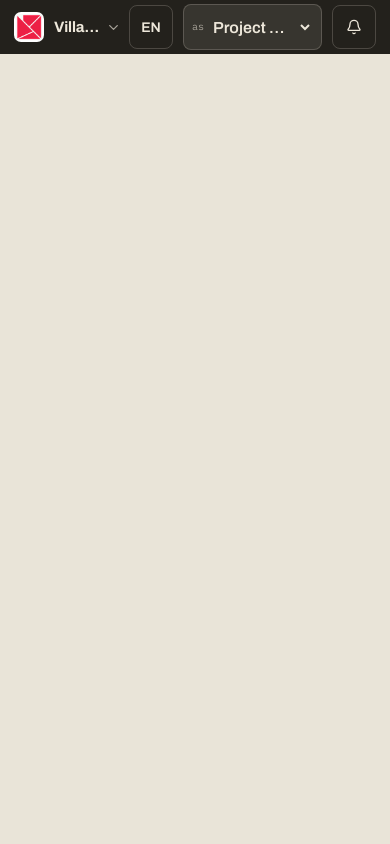
Test: switching from the top bar goes through the existing store path › the sheet does not replace Portfolio — it offers the cross-project overview as a destination
The image size is (390, 844).
Step 1. Click the button with test id "mobile-project-switcher" → {"x": 92, "y": 27}, box [54,5,129,49]
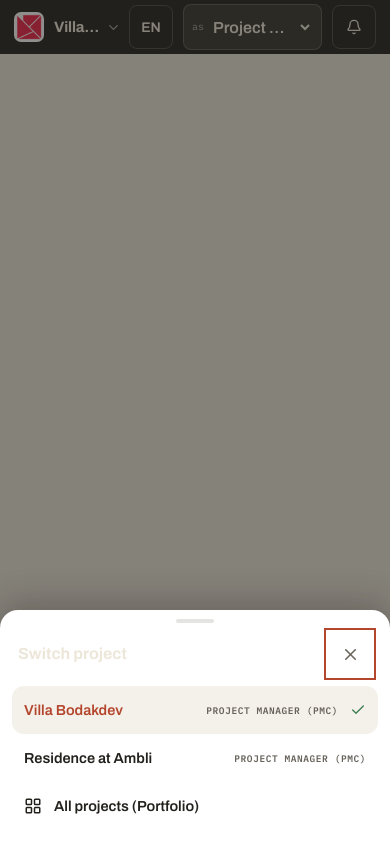
Step 2. Click the button with test id "project-sheet-portfolio" → {"x": 195, "y": 806}, box [12,782,378,830]
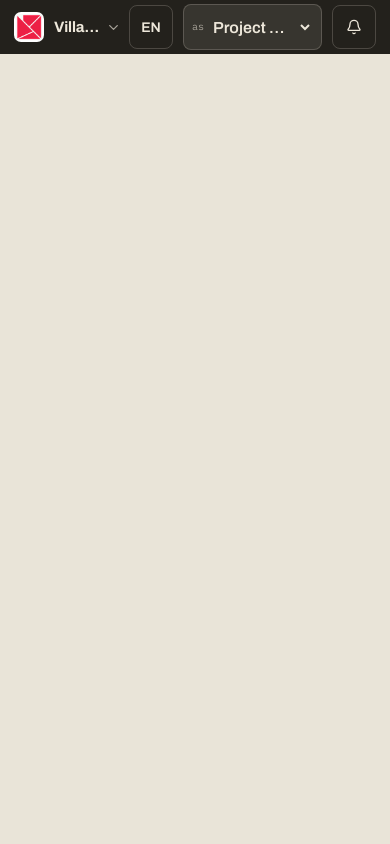
Check: the dialog with test id "project-sheet" is gone
